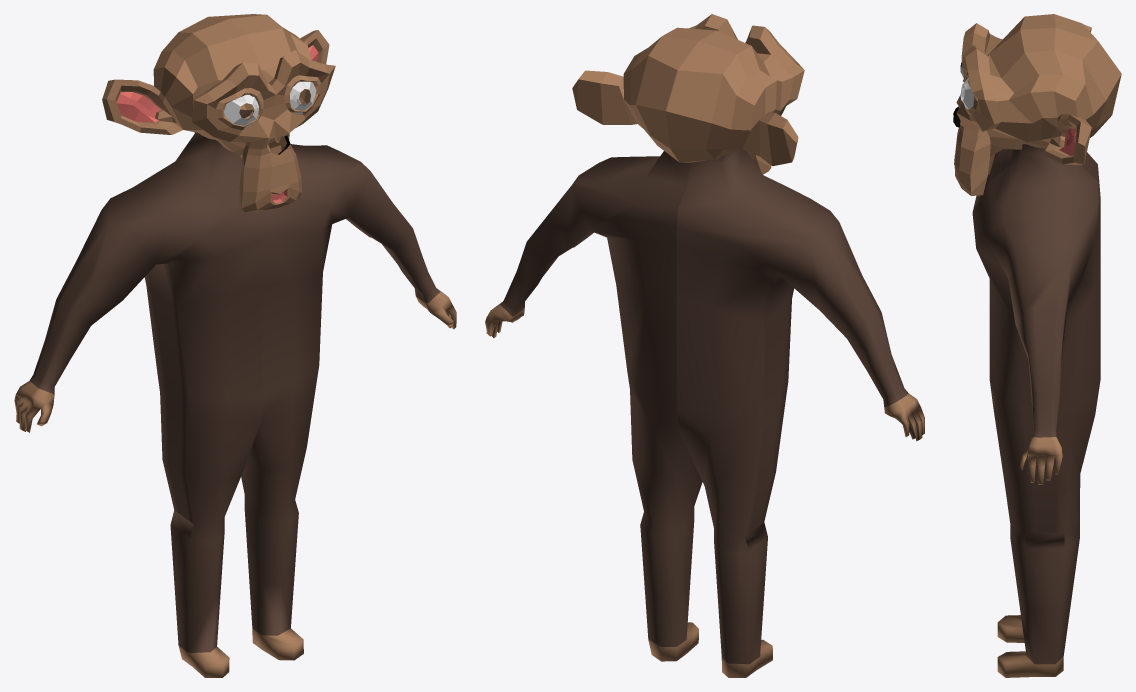
The model's file is MonkeyPerson.fbx.
The picture shows the model from 3 angles, left to right: view 1: azimuth 30°, elevation 25°; view 2: azimuth 150°, elevation 25°; view 3: azimuth 270°, elevation 25°; orthographic projection.
Parts seen in each view (by area): view 1: Cube; view 2: Cube; view 3: Cube.
Boxes of the visible parts, x1,y1,x2,y2 form: Cube: (14, 14, 456, 677); Cube: (485, 14, 924, 677); Cube: (953, 14, 1121, 677).
Bounding box in the file's own units: 52.4 × 72.97 × 17.78.
